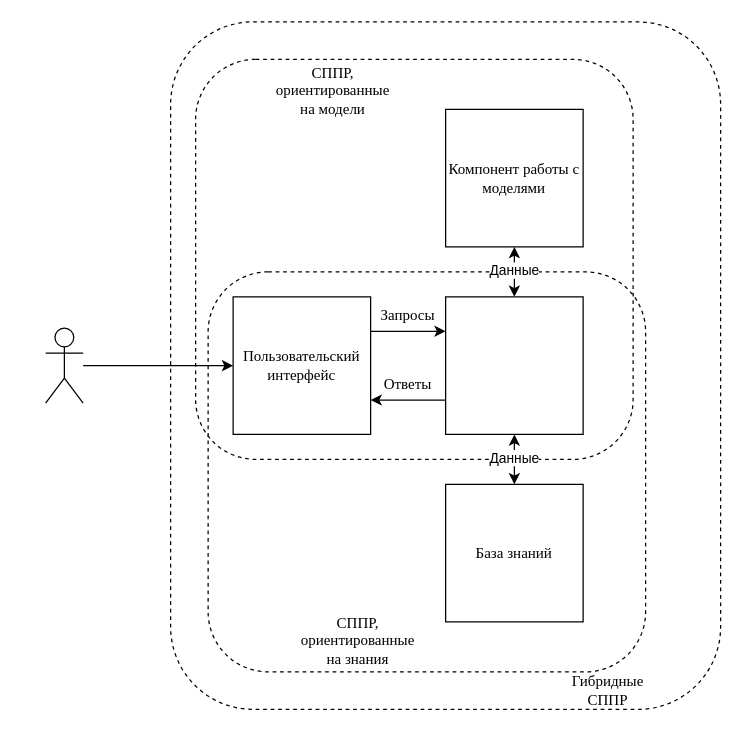
Some shapes in this 743 by 731 pixel diagram are drawn without their labels. Here are the shapes that lost their labels. From the top down, the box of each, then its label:
(44, 327, 83, 403): Пользователь
(444, 296, 583, 434): Механизм логического вывода
